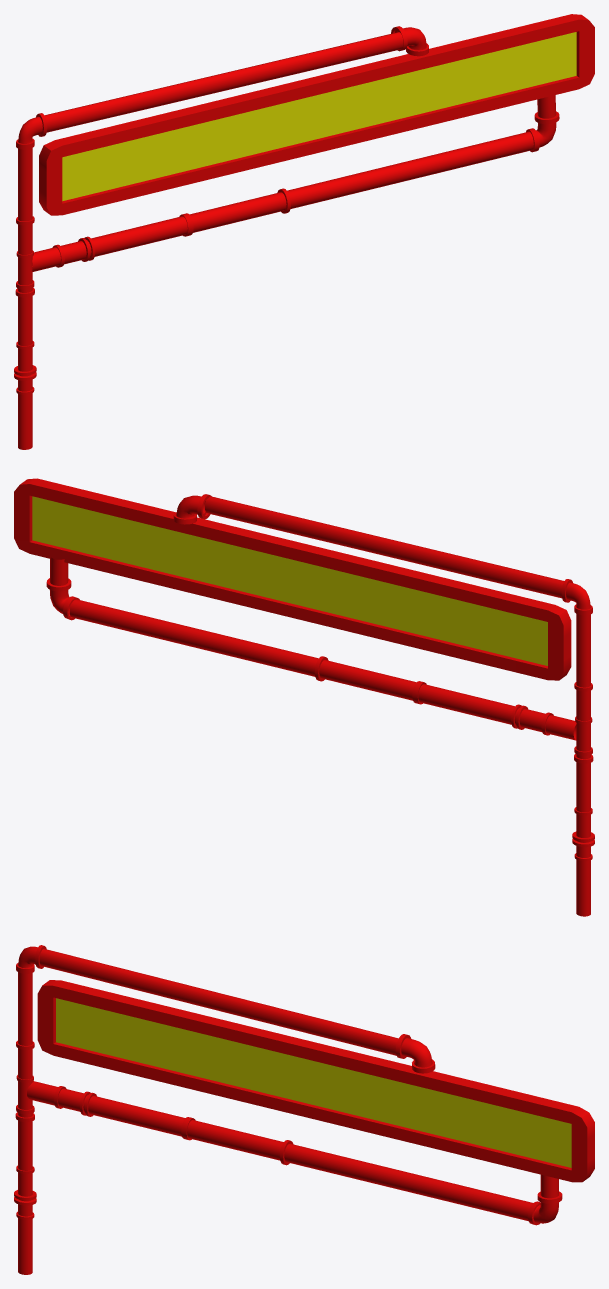
The model's file is Billboard_Oct28.fbx.
3 views of the same model, one above another, from view 1: azimuth 30°, elevation 25°; view 2: azimuth 150°, elevation 25°; view 3: azimuth 330°, elevation 25° (orthographic).
Visible parts, largest first — view 1: BILLBOARDFOREIMPORTY:Sign, BillBoard1, BillBoard5, BillBoardConnector2, BillBoardConnector5; view 2: BILLBOARDFOREIMPORTY:Sign, BillBoard1, BillBoard5, BillBoardConnector2, BillBoardConnector5; view 3: BILLBOARDFOREIMPORTY:Sign, BillBoard1, BillBoard5, BillBoardConnector2, BillBoardConnector5.
Boxes of the visible parts, x1,y1,x2,y2 form: BILLBOARDFOREIMPORTY:Sign: [39, 14, 594, 215]; BillBoard1: [14, 32, 403, 449]; BillBoard5: [32, 131, 533, 271]; BillBoardConnector2: [526, 95, 559, 152]; BillBoardConnector5: [391, 26, 428, 56]; BILLBOARDFOREIMPORTY:Sign: [14, 478, 571, 680]; BillBoard1: [205, 496, 594, 916]; BillBoard5: [69, 599, 576, 740]; BillBoardConnector2: [46, 556, 79, 620]; BillBoardConnector5: [173, 494, 211, 524]; BILLBOARDFOREIMPORTY:Sign: [37, 980, 594, 1182]; BillBoard1: [14, 945, 398, 1274]; BillBoard5: [27, 1081, 532, 1221]; BillBoardConnector2: [527, 1174, 562, 1225]; BillBoardConnector5: [395, 1034, 435, 1073].
Size of the model in its own units: 23.34 by 12.76 by 0.9757.
